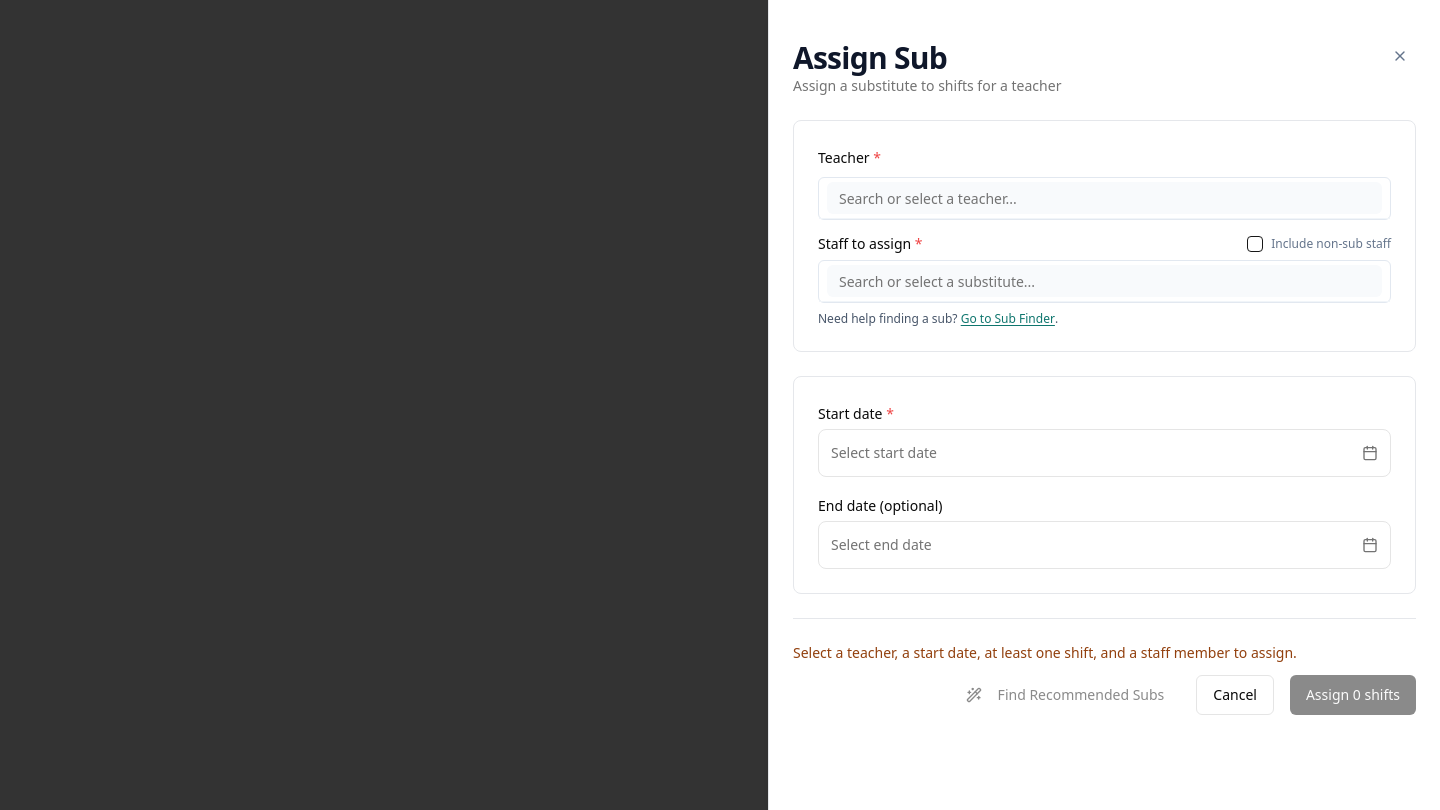
Test: AssignSubPanel › shows override enabled chip only when include non-sub is on
expect the text "Override enabled" is not shown: met
Click the checkbox named "Include non-sub staff" at (1255, 244), box [1247,236,1263,252]
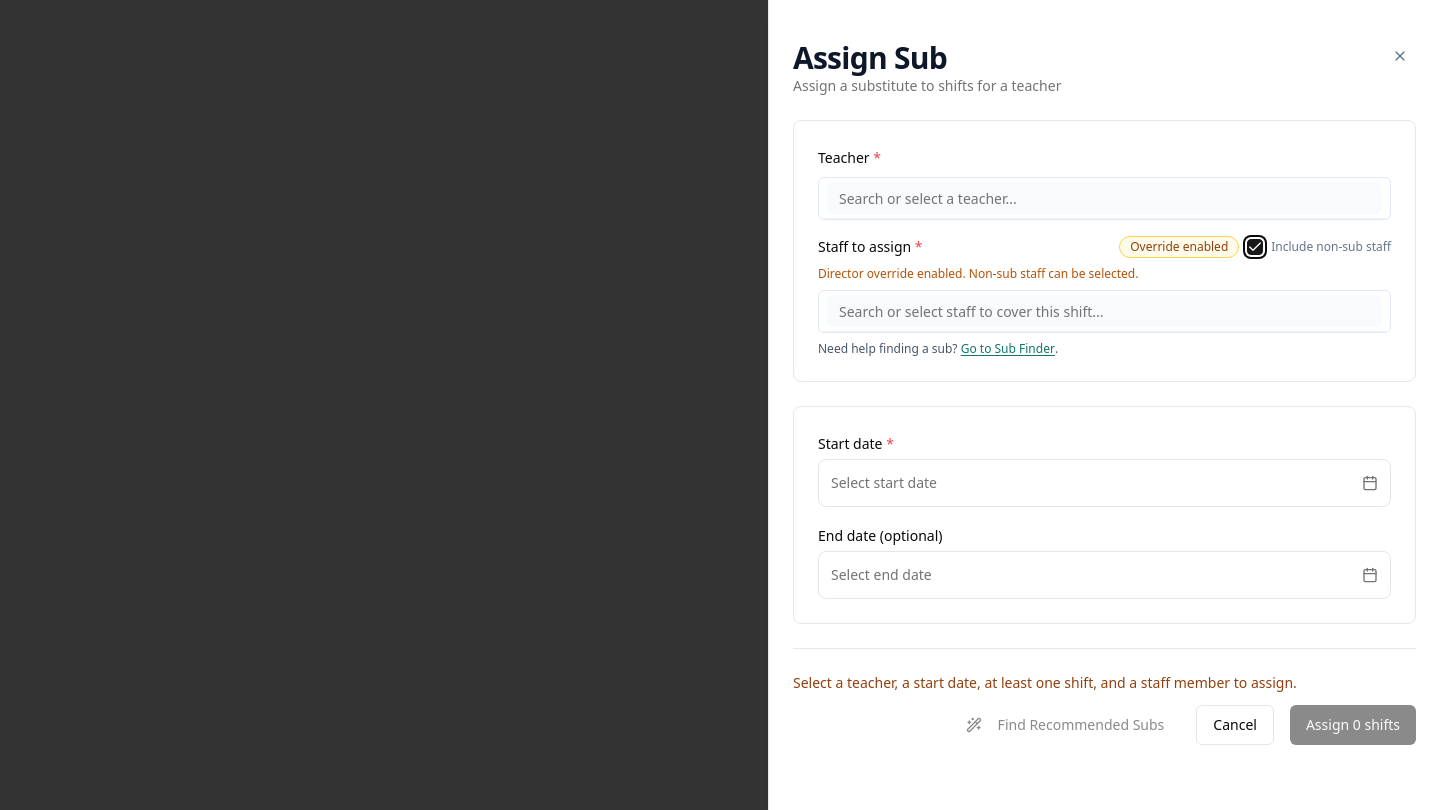
expect the text "Override enabled" is shown: met, box [1119,236,1239,258]
expect the text "Director override enabled. Non-sub staff can be selected." is shown: met, box [818,265,1138,282]
Click the checkbox named "Include non-sub staff" at (1255, 247), box [1247,239,1263,255]
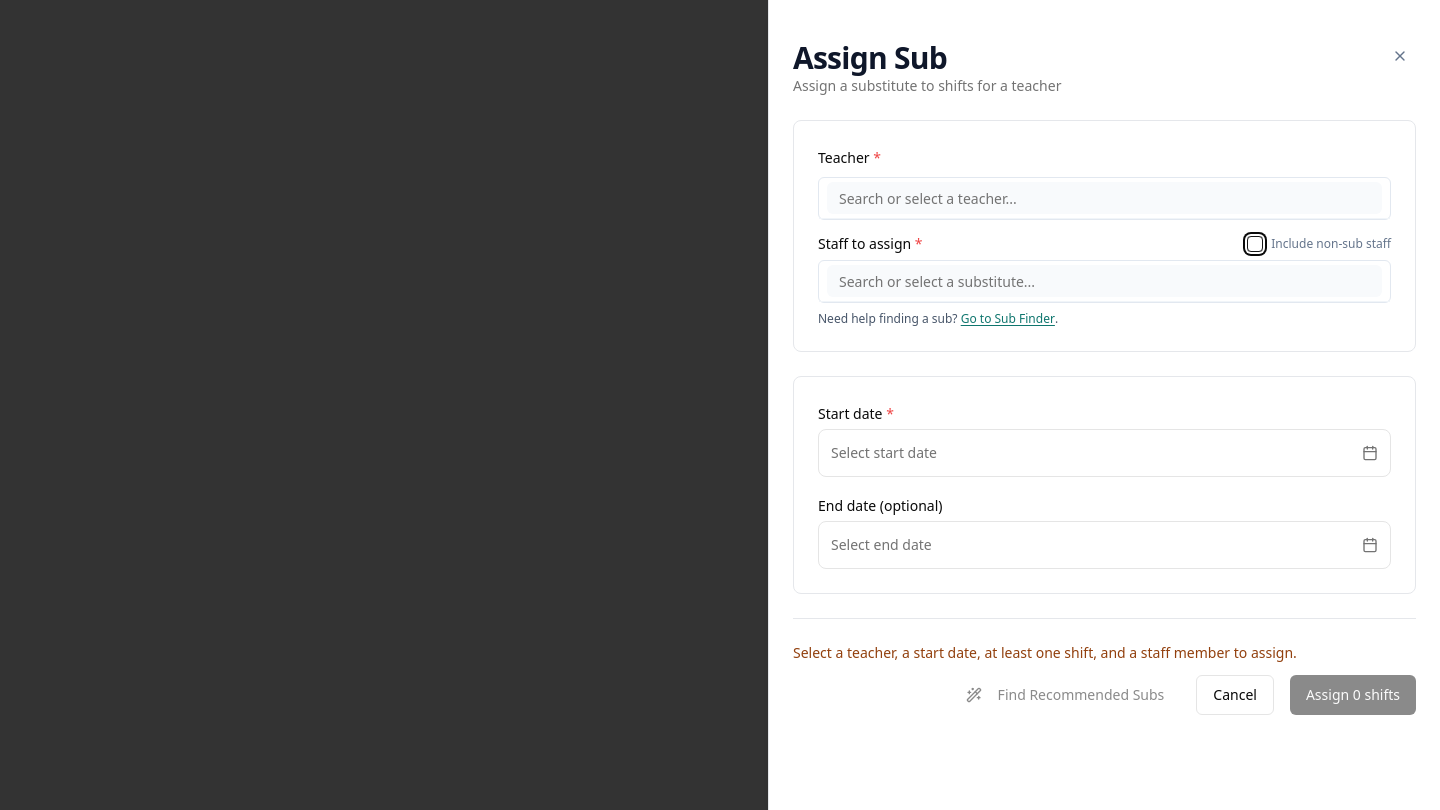
expect the text "Override enabled" is gone: met
